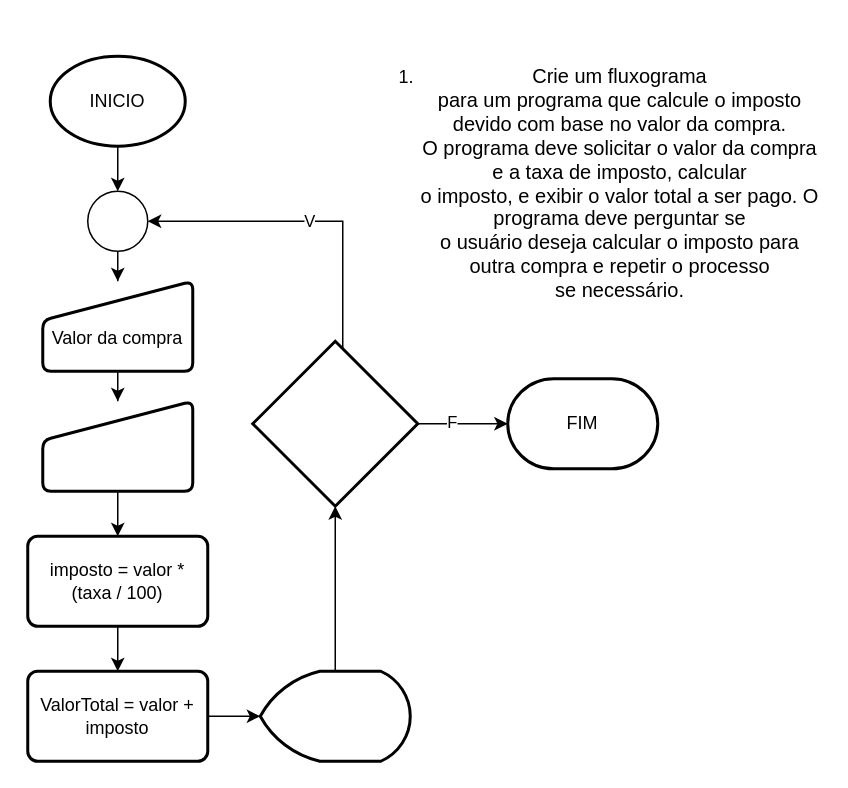
Some shapes in this 848 by 788 pixel diagram are drawn without their labels. The shapes that lost their labels are listed below. From the top down, each one's box as (x1, y1, x2, y2) in pixels, then its label:
(250, 339, 418, 507): Deseja calcular o imposto para outra compra
(40, 399, 194, 492): Taxa de imposto
(258, 669, 411, 762): ValorTotal
